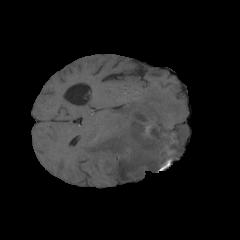glioma: (83, 88, 189, 182)
